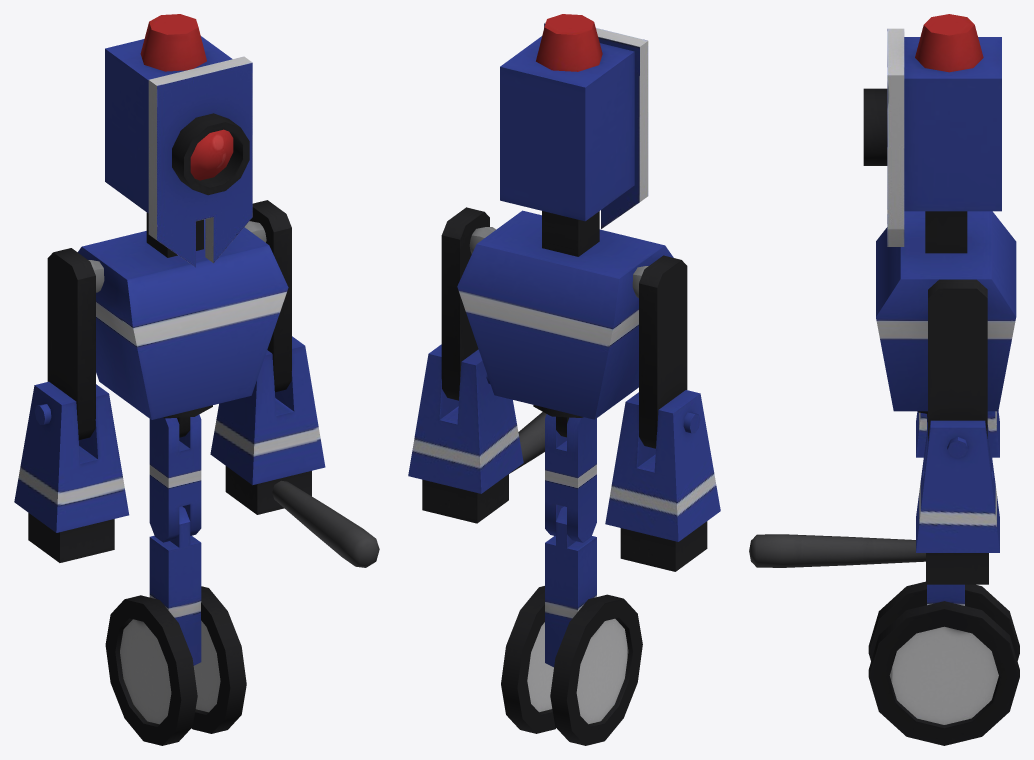
File: New Robot with Textures.fbx
The picture shows the model from 3 angles, left to right: view 1: azimuth 30°, elevation 25°; view 2: azimuth 150°, elevation 25°; view 3: azimuth 270°, elevation 25°; orthographic projection.
Parts seen in each view (by area): view 1: Box096; view 2: Box096; view 3: Box096.
Boxes of the visible parts, <box> form: Box096: <box>14,14,379,745</box>; Box096: <box>408,14,720,745</box>; Box096: <box>749,14,1019,745</box>.
Size of the model in its own units: 90.21 by 227 by 78.83.
